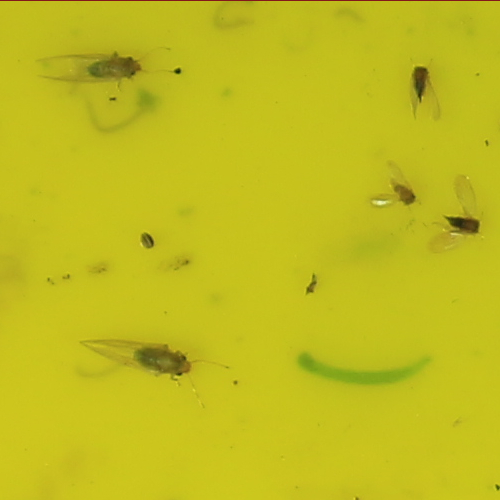Glycaspis: (130, 345, 194, 378), (89, 50, 142, 83)
psylla: (445, 209, 483, 235), (388, 178, 419, 208), (411, 65, 429, 102)
